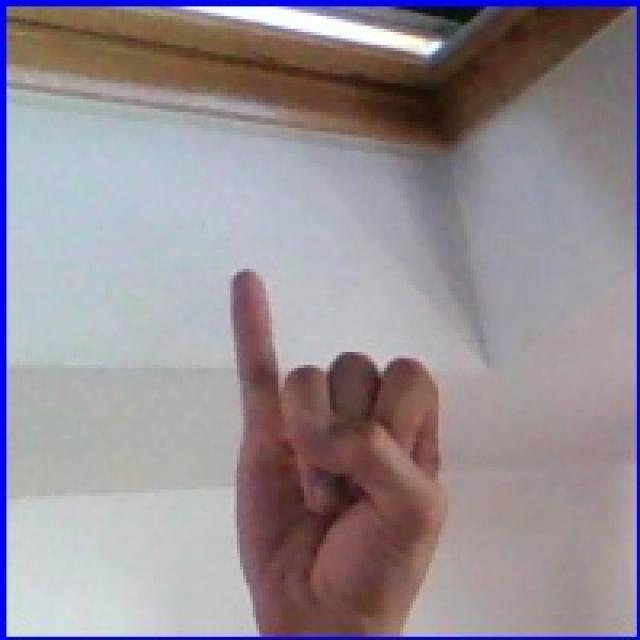Letra I: (160, 218, 490, 626)
